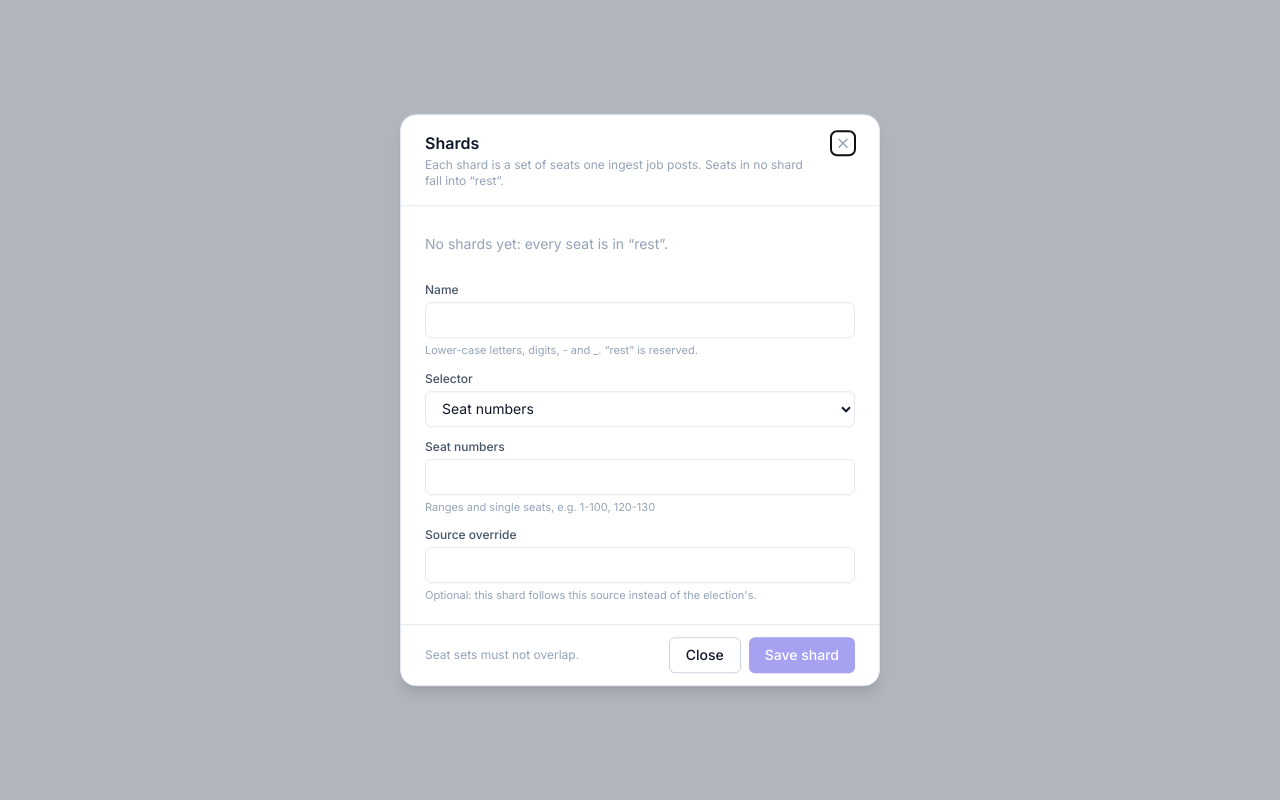
Test: ShardsDialog › shows the clashing seats on a 409
In the field labelled "Name": point(640, 320) [425,302,855,338], type "north"
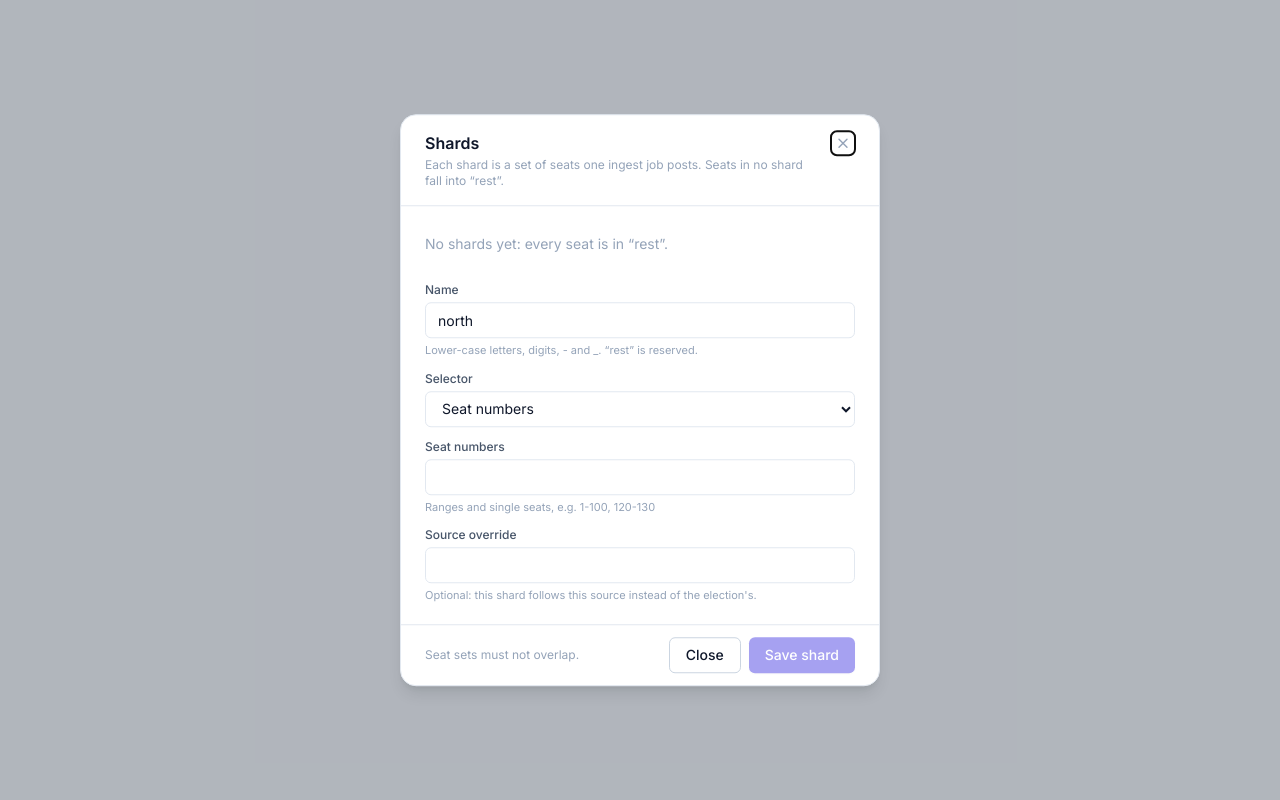
In the field labelled "Seat numbers": point(640, 477) [425,459,855,495], type "1-100"
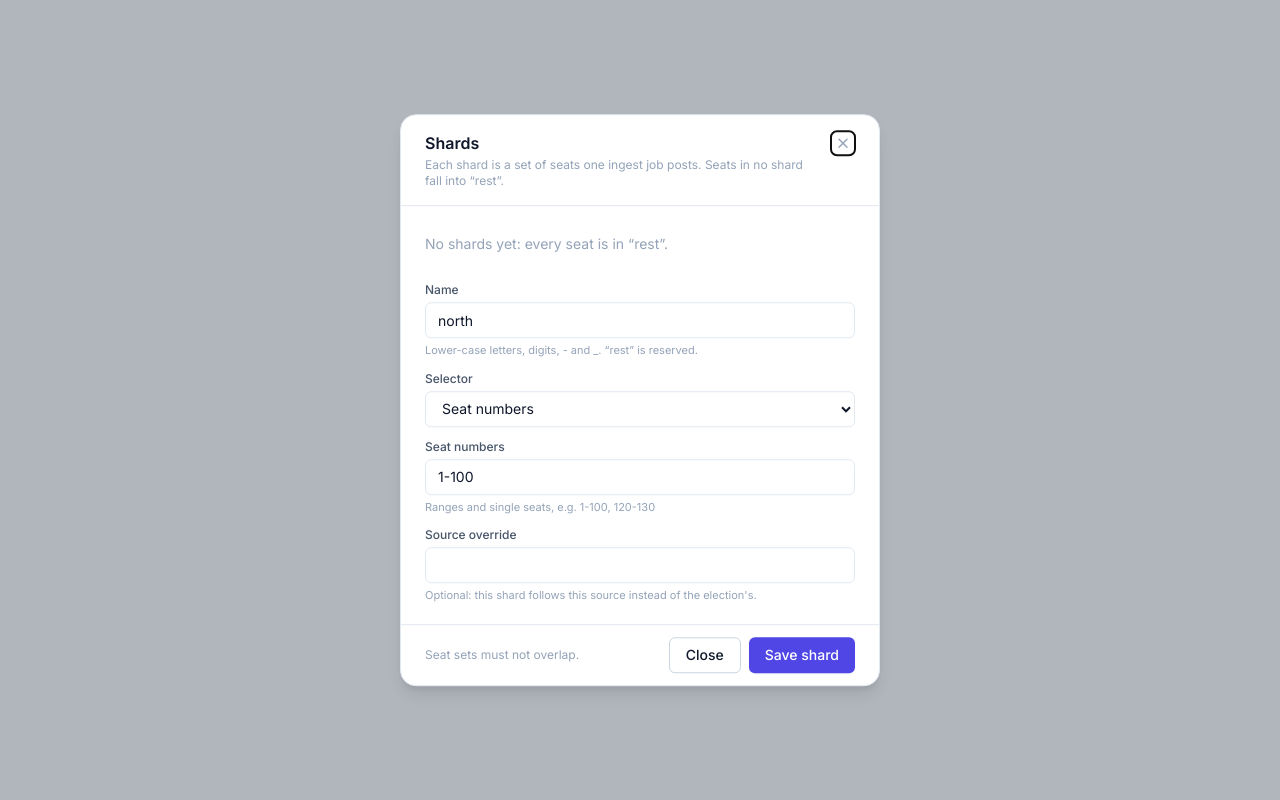
Click the button "Save shard": point(802, 655) [749,637,855,673]
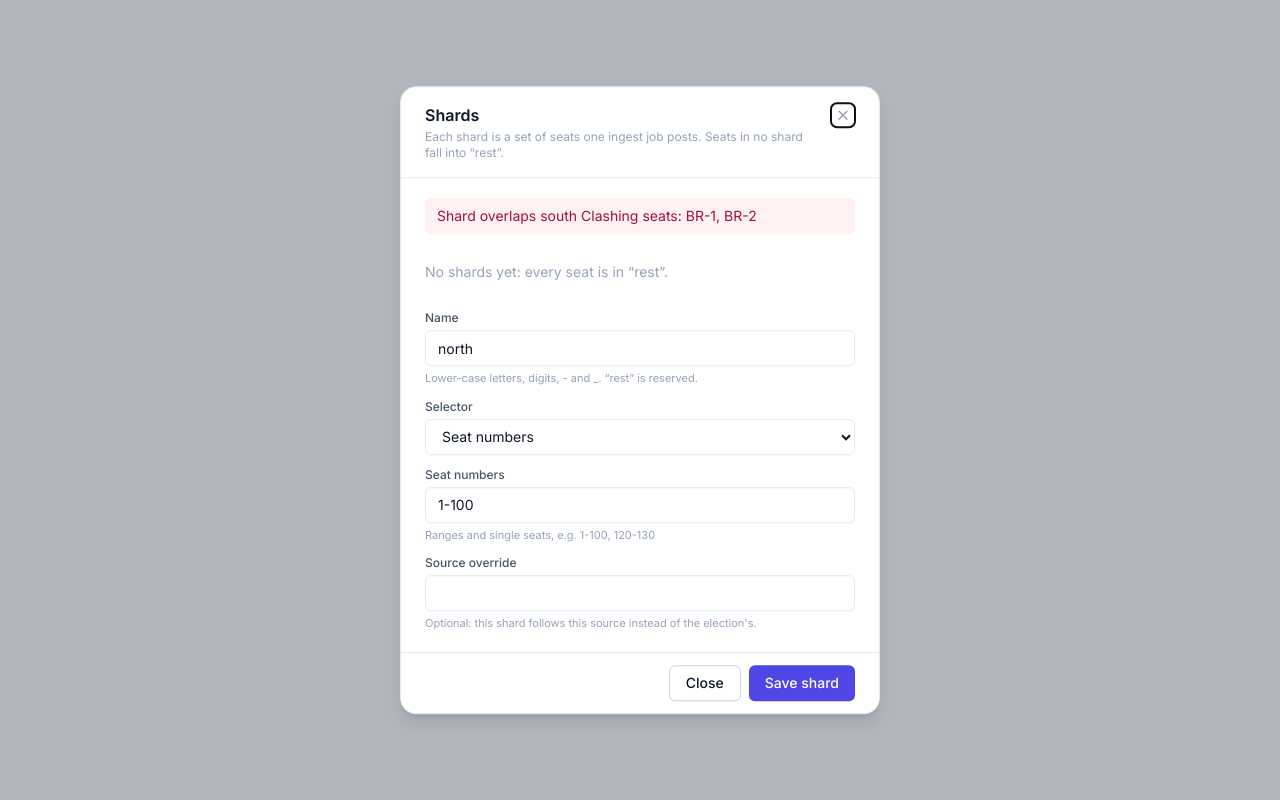
Check: the text "Shard overlaps south Clashing seats: BR-1, BR-2" is shown, box [425,198,855,234]
